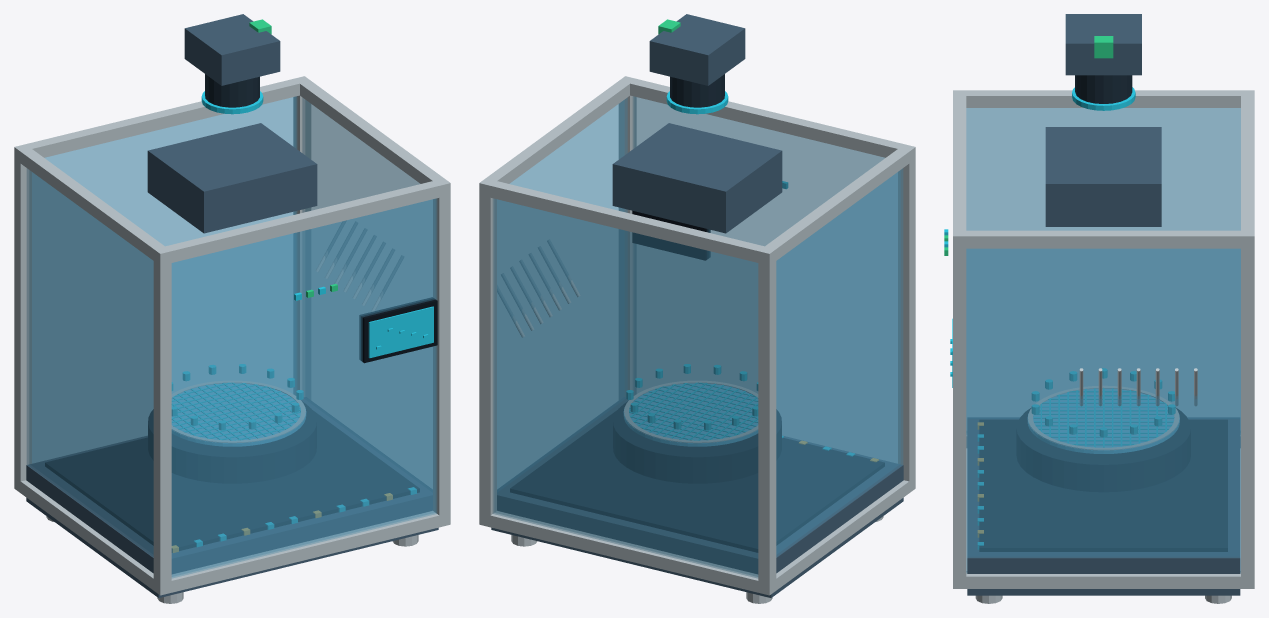
The model's file is 57_L79_StackWarpageMetrologyScanner.fbx.
3 renders of one model, left to right at view 1: azimuth 30°, elevation 25°; view 2: azimuth 150°, elevation 25°; view 3: azimuth 270°, elevation 25°, orthographic. The views are drawn at different scales.
Parts seen in each view (by area): view 1: StackWarpageMetrologyScanner, StackWarpageMetrologyScanner_Part_0095, StackWarpageMetrologyScanner_Part_0096; view 2: StackWarpageMetrologyScanner, StackWarpageMetrologyScanner_Part_0095, StackWarpageMetrologyScanner_Part_0096; view 3: StackWarpageMetrologyScanner, StackWarpageMetrologyScanner_Part_0095, StackWarpageMetrologyScanner_Part_0096, StackWarpageMetrologyScanner_Part_0097, StackWarpageMetrologyScanner_Part_0099.
Part boxes in pixels (left/top/right/bottom): StackWarpageMetrologyScanner: left=14, top=76, right=450, bottom=603; StackWarpageMetrologyScanner_Part_0095: left=184, top=14, right=280, bottom=85; StackWarpageMetrologyScanner_Part_0096: left=205, top=74, right=259, bottom=107; StackWarpageMetrologyScanner: left=479, top=76, right=915, bottom=603; StackWarpageMetrologyScanner_Part_0095: left=649, top=14, right=745, bottom=85; StackWarpageMetrologyScanner_Part_0096: left=670, top=74, right=724, bottom=107; StackWarpageMetrologyScanner: left=944, top=90, right=1254, bottom=603; StackWarpageMetrologyScanner_Part_0095: left=1065, top=14, right=1141, bottom=75; StackWarpageMetrologyScanner_Part_0096: left=1075, top=75, right=1132, bottom=103; StackWarpageMetrologyScanner_Part_0097: left=1072, top=87, right=1135, bottom=110; StackWarpageMetrologyScanner_Part_0099: left=1094, top=36, right=1113, bottom=58.
Size of the model in its own units: 230 by 357 by 195.
